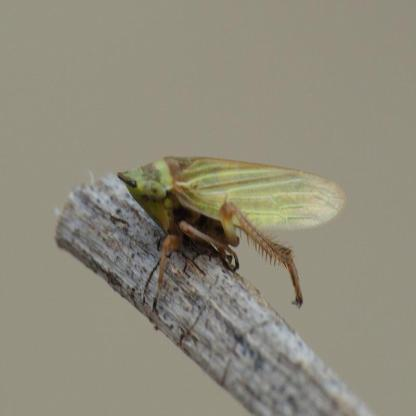green-leafhopper: (119, 157, 341, 302)
